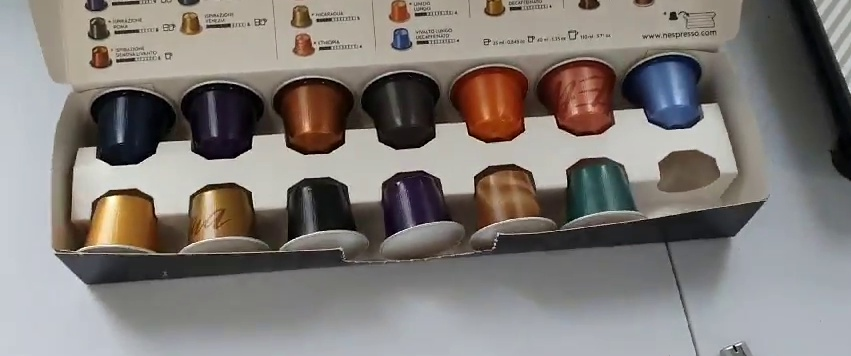capsule_1: (85, 86, 178, 167)
capsule_10: (276, 178, 369, 261)
capsule_11: (377, 172, 463, 256)
capsule_12: (468, 166, 557, 247)
capsule_13: (558, 161, 650, 229)
capsule_2: (175, 79, 267, 154)
capsule_3: (271, 73, 357, 152)
capsule_4: (355, 66, 443, 147)
capsule_5: (448, 63, 530, 141)
capsule_6: (532, 53, 619, 135)
capsule_7: (622, 51, 710, 129)
capsule_8: (72, 191, 165, 259)
capsule_9: (173, 183, 269, 256)
